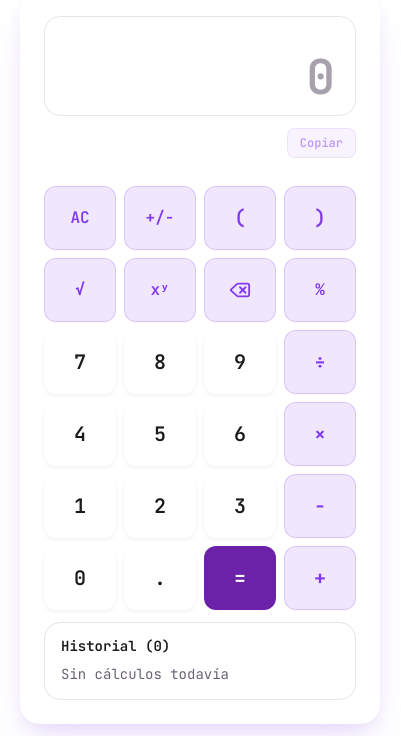
Test: App › un número tras = empieza de cero
Step 1. Click the button "5" → (160, 434), box [124,402,196,466]
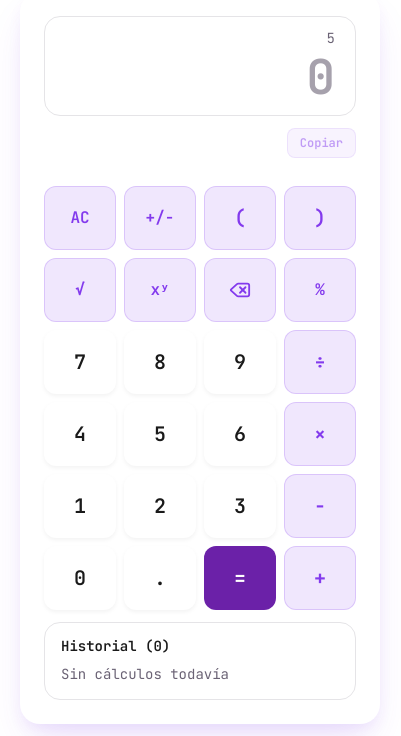
Step 2. Click the button "+" → (320, 578), box [284,546,356,610]
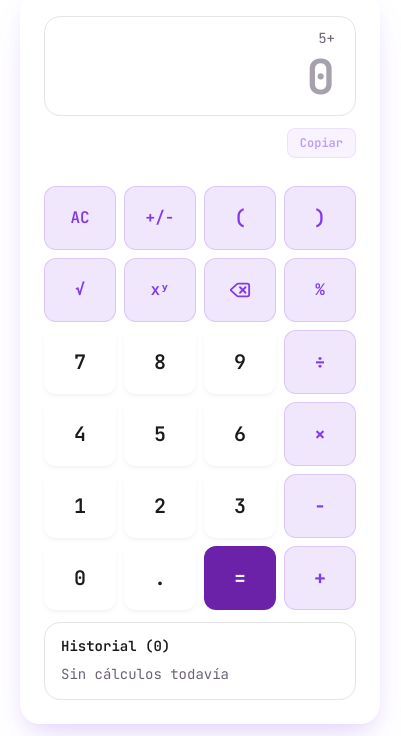
Step 3. Click the button "3" → (240, 506), box [204,474,276,538]
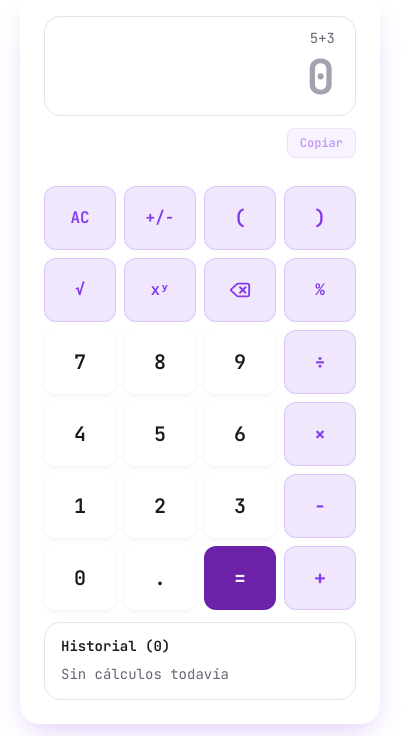
Step 4. Click the button "=" → (240, 578), box [204,546,276,610]
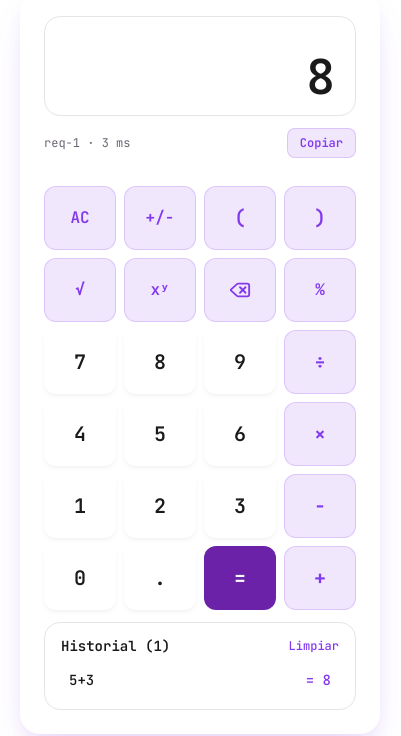
Expected: the text "8" is shown, [306,51,335,103]
Step 5. Click the button "9" → (240, 362), box [204,330,276,394]
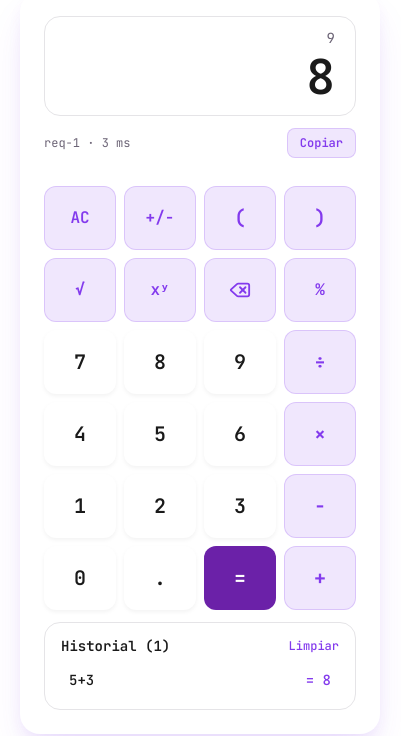
Expected: the text "9" is shown, [327,29,335,47]
